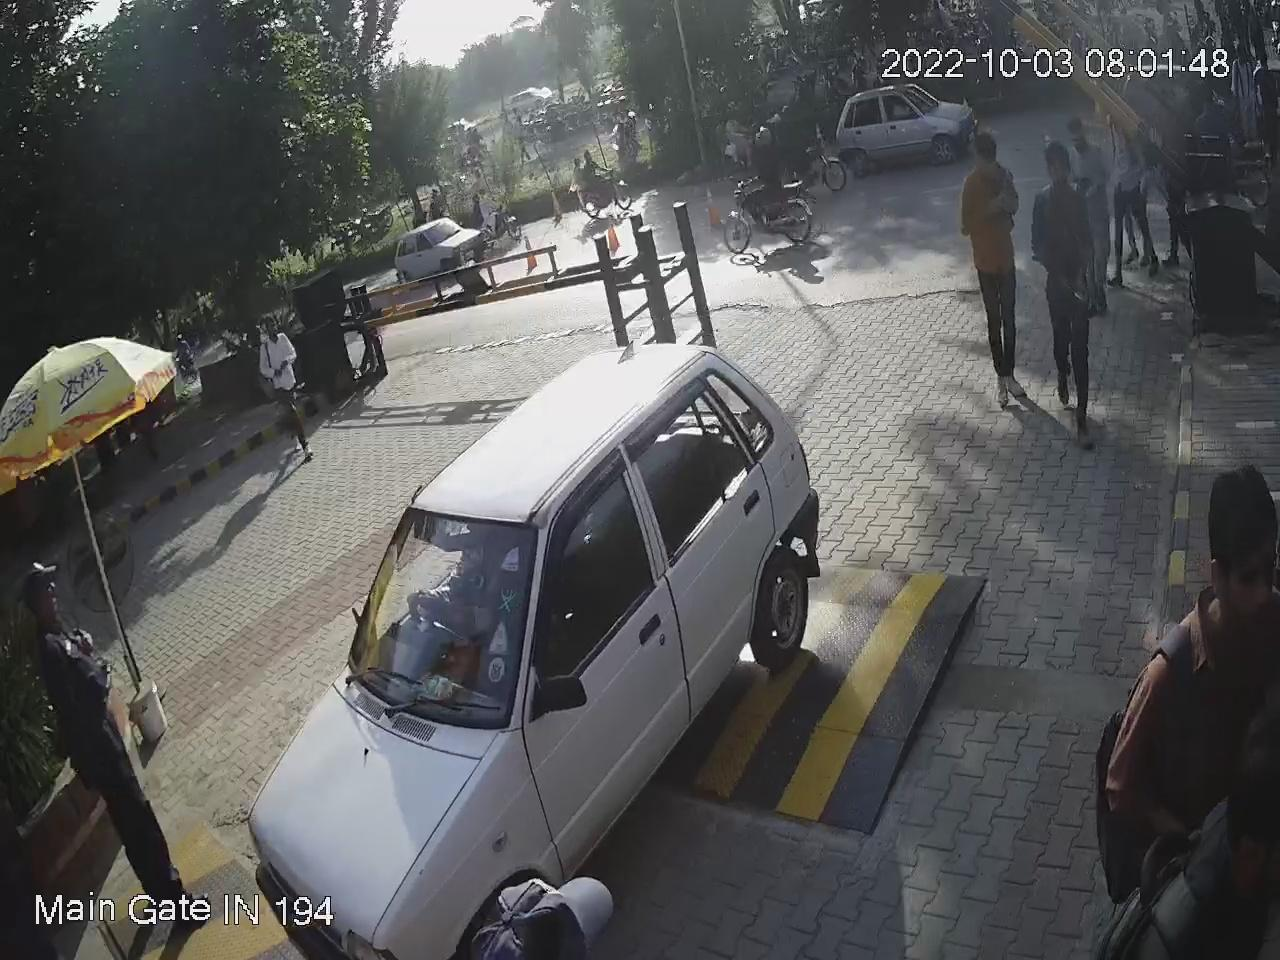windshield: (338, 505, 546, 732)
